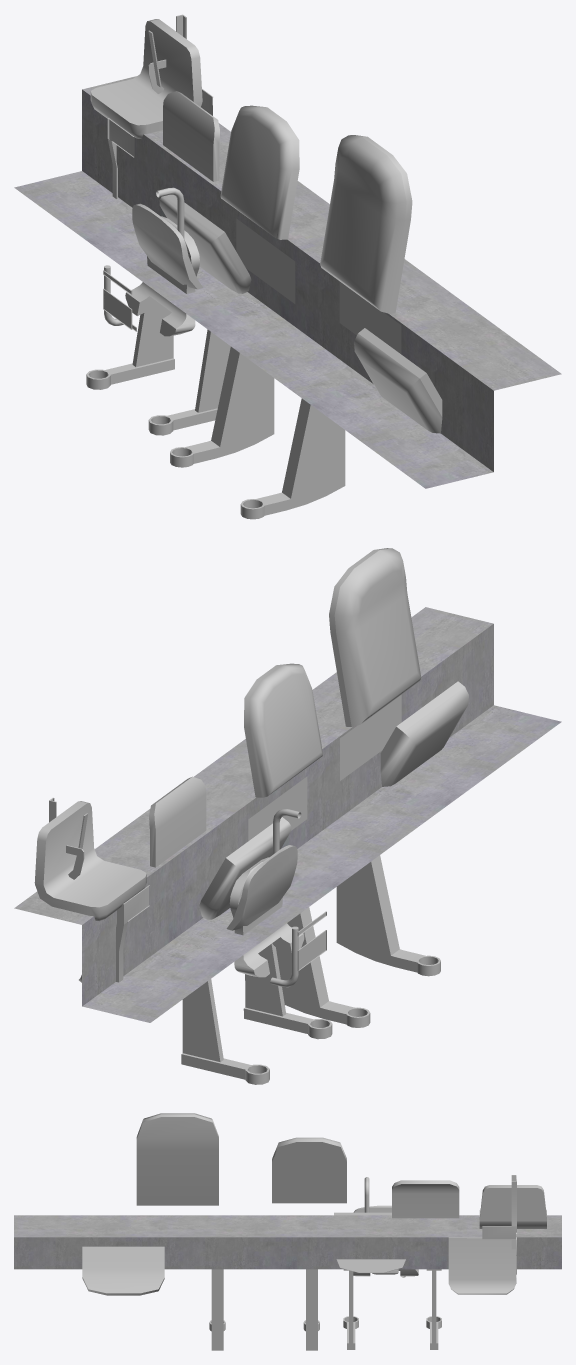
Rendered from low_poly_stadiumsports_arena_seats.fbx.
3 views of the same model, one above another, from view 1: azimuth 30°, elevation 25°; view 2: azimuth 150°, elevation 25°; view 3: azimuth 270°, elevation 25° (orthographic). The views are drawn at different scales.
Parts seen in each view (by area): view 1: Material2 (×22); view 2: Material2 (×22); view 3: Material2 (×14).
Part boxes in pixels (x1=…): Material2 (×22): x1=14, y1=14, x2=561, y2=519; Material2 (×22): x1=14, y1=548, x2=561, y2=1084; Material2 (×14): x1=14, y1=1114, x2=561, y2=1350.
Bounding box in the file's own units: 34.47 × 70.96 × 144.
Materials: 5 (1 with a texture image).
